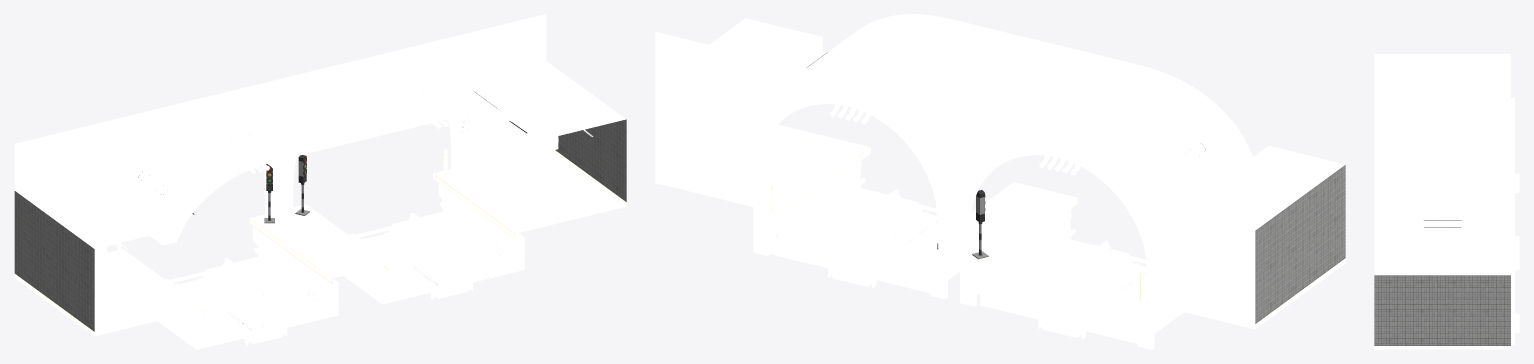
File: Ped_Tunnel_End_01.fbx
The picture shows the model from 3 angles, left to right: view 1: azimuth 30°, elevation 25°; view 2: azimuth 150°, elevation 25°; view 3: azimuth 270°, elevation 25°; orthographic projection. The views are drawn at different scales.
Visible parts, largest first — view 1: Ped_Tunnel_End_01; view 2: Ped_Tunnel_End_01; view 3: Ped_Tunnel_End_01.
Boxes of the visible parts, <box> form: Ped_Tunnel_End_01: <box>14,14,626,349</box>; Ped_Tunnel_End_01: <box>655,14,1345,349</box>; Ped_Tunnel_End_01: <box>1374,54,1519,349</box>.
Size of the model in its own units: 1916 by 627 by 532.
